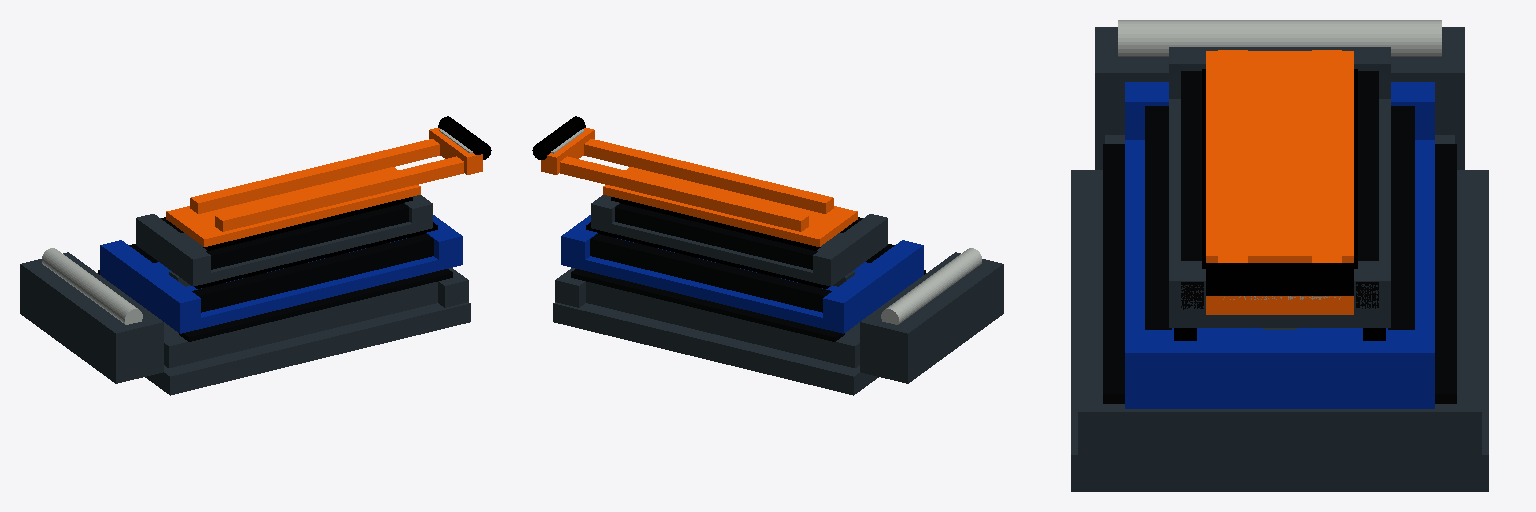
The robot description file, URDF, robot "warehouse_three_stage_shuttle":
<robot name="warehouse_three_stage_shuttle">
  <material name="painted_steel">
    <color rgba="0.19 0.23 0.26 1" />
    </material>
  <material name="dark_linear_rail">
    <color rgba="0.04 0.045 0.05 1" />
    </material>
  <material name="safety_blue">
    <color rgba="0.05 0.22 0.62 1" />
    </material>
  <material name="safety_orange">
    <color rgba="1 0.42 0.04 1" />
    </material>
  <material name="black_rubber">
    <color rgba="0.006 0.006 0.005 1" />
    </material>
  <material name="zinc_hardware">
    <color rgba="0.7 0.72 0.7 1" />
    </material>
  <link name="base">
    <visual name="deck">
      <origin xyz="0.15 0 0.03" rpy="0 0 0" />
      <geometry>
        <box size="1 0.62 0.06" />
        </geometry>
      <material name="painted_steel">
        <color rgba="0.19 0.23 0.26 1" />
        </material>
      </visual>
    <visual name="base_rail_0">
      <origin xyz="0.15 -0.235 0.095" rpy="0 0 0" />
      <geometry>
        <box size="0.95 0.05 0.07" />
        </geometry>
      <material name="painted_steel">
        <color rgba="0.19 0.23 0.26 1" />
        </material>
      </visual>
    <visual name="base_pad_0">
      <origin xyz="0.18 -0.235 0.1375" rpy="0 0 0" />
      <geometry>
        <box size="0.88 0.056 0.015" />
        </geometry>
      <material name="dark_linear_rail">
        <color rgba="0.04 0.045 0.05 1" />
        </material>
      </visual>
    <visual name="base_rail_1">
      <origin xyz="0.15 0.235 0.095" rpy="0 0 0" />
      <geometry>
        <box size="0.95 0.05 0.07" />
        </geometry>
      <material name="painted_steel">
        <color rgba="0.19 0.23 0.26 1" />
        </material>
      </visual>
    <visual name="base_pad_1">
      <origin xyz="0.18 0.235 0.1375" rpy="0 0 0" />
      <geometry>
        <box size="0.88 0.056 0.015" />
        </geometry>
      <material name="dark_linear_rail">
        <color rgba="0.04 0.045 0.05 1" />
        </material>
      </visual>
    <visual name="rear_drive">
      <origin xyz="-0.43 0 0.14" rpy="0 0 0" />
      <geometry>
        <box size="0.16 0.55 0.16" />
        </geometry>
      <material name="painted_steel">
        <color rgba="0.19 0.23 0.26 1" />
        </material>
      </visual>
    <visual name="front_crossmember">
      <origin xyz="0.61 0 0.095" rpy="0 0 0" />
      <geometry>
        <box size="0.08 0.6 0.07" />
        </geometry>
      <material name="painted_steel">
        <color rgba="0.19 0.23 0.26 1" />
        </material>
      </visual>
    <visual name="drive_shaft">
      <origin xyz="-0.43 0 0.235" rpy="1.5708 0 0" />
      <geometry>
        <cylinder radius="0.03" length="0.48" />
        </geometry>
      <material name="zinc_hardware">
        <color rgba="0.7 0.72 0.7 1" />
        </material>
      </visual>
    <visual name="shaft_mount">
      <origin xyz="-0.43 0 0.205" rpy="0 0 0" />
      <geometry>
        <box size="0.1 0.5 0.03" />
        </geometry>
      <material name="painted_steel">
        <color rgba="0.19 0.23 0.26 1" />
        </material>
      </visual>
    <collision name="deck">
      <origin xyz="0.15 0 0.03" rpy="0 0 0" />
      <geometry>
        <box size="1 0.62 0.06" />
        </geometry>
      </collision>
    <collision name="base_rail_0">
      <origin xyz="0.15 -0.235 0.095" rpy="0 0 0" />
      <geometry>
        <box size="0.95 0.05 0.07" />
        </geometry>
      </collision>
    <collision name="base_pad_0">
      <origin xyz="0.18 -0.235 0.1375" rpy="0 0 0" />
      <geometry>
        <box size="0.88 0.056 0.015" />
        </geometry>
      </collision>
    <collision name="base_rail_1">
      <origin xyz="0.15 0.235 0.095" rpy="0 0 0" />
      <geometry>
        <box size="0.95 0.05 0.07" />
        </geometry>
      </collision>
    <collision name="base_pad_1">
      <origin xyz="0.18 0.235 0.1375" rpy="0 0 0" />
      <geometry>
        <box size="0.88 0.056 0.015" />
        </geometry>
      </collision>
    <collision name="rear_drive">
      <origin xyz="-0.43 0 0.14" rpy="0 0 0" />
      <geometry>
        <box size="0.16 0.55 0.16" />
        </geometry>
      </collision>
    <collision name="front_crossmember">
      <origin xyz="0.61 0 0.095" rpy="0 0 0" />
      <geometry>
        <box size="0.08 0.6 0.07" />
        </geometry>
      </collision>
    <collision name="drive_shaft">
      <origin xyz="-0.43 0 0.235" rpy="1.5708 0 0" />
      <geometry>
        <cylinder radius="0.03" length="0.48" />
        </geometry>
      </collision>
    <collision name="shaft_mount">
      <origin xyz="-0.43 0 0.205" rpy="0 0 0" />
      <geometry>
        <box size="0.1 0.5 0.03" />
        </geometry>
      </collision>
    </link>
  <link name="stage_1">
    <visual name="stage_bed">
      <origin xyz="0.47 0 0.0175" rpy="0 0 0" />
      <geometry>
        <box size="0.94 0.46 0.035" />
        </geometry>
      <material name="safety_blue">
        <color rgba="0.05 0.22 0.62 1" />
        </material>
      </visual>
    <visual name="rail_0">
      <origin xyz="0.49 -0.18 0.062" rpy="0 0 0" />
      <geometry>
        <box size="0.88 0.04 0.056" />
        </geometry>
      <material name="dark_linear_rail">
        <color rgba="0.04 0.045 0.05 1" />
        </material>
      </visual>
    <visual name="upper_pad_0">
      <origin xyz="0.5 -0.1404 0.097" rpy="0 0 0" />
      <geometry>
        <box size="0.8 0.034 0.016" />
        </geometry>
      <material name="black_rubber">
        <color rgba="0.006 0.006 0.005 1" />
        </material>
      </visual>
    <visual name="rail_1">
      <origin xyz="0.49 0.18 0.062" rpy="0 0 0" />
      <geometry>
        <box size="0.88 0.04 0.056" />
        </geometry>
      <material name="dark_linear_rail">
        <color rgba="0.04 0.045 0.05 1" />
        </material>
      </visual>
    <visual name="upper_pad_1">
      <origin xyz="0.5 0.1404 0.097" rpy="0 0 0" />
      <geometry>
        <box size="0.8 0.034 0.016" />
        </geometry>
      <material name="black_rubber">
        <color rgba="0.006 0.006 0.005 1" />
        </material>
      </visual>
    <visual name="front_crosshead">
      <origin xyz="0.9 0 0.046" rpy="0 0 0" />
      <geometry>
        <box size="0.08 0.46 0.092" />
        </geometry>
      <material name="safety_blue">
        <color rgba="0.05 0.22 0.62 1" />
        </material>
      </visual>
    <visual name="rear_bolster">
      <origin xyz="0.035 0 0.066" rpy="0 0 0" />
      <geometry>
        <box size="0.07 0.46 0.062" />
        </geometry>
      <material name="safety_blue">
        <color rgba="0.05 0.22 0.62 1" />
        </material>
      </visual>
    <visual name="cable_trough">
      <origin xyz="0.5 0 0.052" rpy="0 0 0" />
      <geometry>
        <box size="0.78 0.05 0.036" />
        </geometry>
      <material name="painted_steel">
        <color rgba="0.19 0.23 0.26 1" />
        </material>
      </visual>
    <collision name="stage_bed">
      <origin xyz="0.47 0 0.0175" rpy="0 0 0" />
      <geometry>
        <box size="0.94 0.46 0.035" />
        </geometry>
      </collision>
    <collision name="rail_0">
      <origin xyz="0.49 -0.18 0.062" rpy="0 0 0" />
      <geometry>
        <box size="0.88 0.04 0.056" />
        </geometry>
      </collision>
    <collision name="upper_pad_0">
      <origin xyz="0.5 -0.1404 0.097" rpy="0 0 0" />
      <geometry>
        <box size="0.8 0.034 0.016" />
        </geometry>
      </collision>
    <collision name="rail_1">
      <origin xyz="0.49 0.18 0.062" rpy="0 0 0" />
      <geometry>
        <box size="0.88 0.04 0.056" />
        </geometry>
      </collision>
    <collision name="upper_pad_1">
      <origin xyz="0.5 0.1404 0.097" rpy="0 0 0" />
      <geometry>
        <box size="0.8 0.034 0.016" />
        </geometry>
      </collision>
    <collision name="front_crosshead">
      <origin xyz="0.9 0 0.046" rpy="0 0 0" />
      <geometry>
        <box size="0.08 0.46 0.092" />
        </geometry>
      </collision>
    <collision name="rear_bolster">
      <origin xyz="0.035 0 0.066" rpy="0 0 0" />
      <geometry>
        <box size="0.07 0.46 0.062" />
        </geometry>
      </collision>
    <collision name="cable_trough">
      <origin xyz="0.5 0 0.052" rpy="0 0 0" />
      <geometry>
        <box size="0.78 0.05 0.036" />
        </geometry>
      </collision>
    </link>
  <link name="stage_2">
    <visual name="stage_bed">
      <origin xyz="0.4 0 0.015" rpy="0 0 0" />
      <geometry>
        <box size="0.8 0.33 0.03" />
        </geometry>
      <material name="painted_steel">
        <color rgba="0.19 0.23 0.26 1" />
        </material>
      </visual>
    <visual name="rail_0">
      <origin xyz="0.43 -0.13 0.052" rpy="0 0 0" />
      <geometry>
        <box size="0.74 0.035 0.046" />
        </geometry>
      <material name="dark_linear_rail">
        <color rgba="0.04 0.045 0.05 1" />
        </material>
      </visual>
    <visual name="upper_pad_0">
      <origin xyz="0.42 -0.1001 0.0805" rpy="0 0 0" />
      <geometry>
        <box size="0.68 0.03 0.013" />
        </geometry>
      <material name="black_rubber">
        <color rgba="0.006 0.006 0.005 1" />
        </material>
      </visual>
    <visual name="rail_1">
      <origin xyz="0.43 0.13 0.052" rpy="0 0 0" />
      <geometry>
        <box size="0.74 0.035 0.046" />
        </geometry>
      <material name="dark_linear_rail">
        <color rgba="0.04 0.045 0.05 1" />
        </material>
      </visual>
    <visual name="upper_pad_1">
      <origin xyz="0.42 0.1001 0.0805" rpy="0 0 0" />
      <geometry>
        <box size="0.68 0.03 0.013" />
        </geometry>
      <material name="black_rubber">
        <color rgba="0.006 0.006 0.005 1" />
        </material>
      </visual>
    <visual name="front_crosshead">
      <origin xyz="0.765 0 0.0385" rpy="0 0 0" />
      <geometry>
        <box size="0.07 0.33 0.077" />
        </geometry>
      <material name="painted_steel">
        <color rgba="0.19 0.23 0.26 1" />
        </material>
      </visual>
    <visual name="rear_bolster">
      <origin xyz="0.03 0 0.058" rpy="0 0 0" />
      <geometry>
        <box size="0.06 0.33 0.056" />
        </geometry>
      <material name="painted_steel">
        <color rgba="0.19 0.23 0.26 1" />
        </material>
      </visual>
    <collision name="stage_bed">
      <origin xyz="0.4 0 0.015" rpy="0 0 0" />
      <geometry>
        <box size="0.8 0.33 0.03" />
        </geometry>
      </collision>
    <collision name="rail_0">
      <origin xyz="0.43 -0.13 0.052" rpy="0 0 0" />
      <geometry>
        <box size="0.74 0.035 0.046" />
        </geometry>
      </collision>
    <collision name="upper_pad_0">
      <origin xyz="0.42 -0.1001 0.0805" rpy="0 0 0" />
      <geometry>
        <box size="0.68 0.03 0.013" />
        </geometry>
      </collision>
    <collision name="rail_1">
      <origin xyz="0.43 0.13 0.052" rpy="0 0 0" />
      <geometry>
        <box size="0.74 0.035 0.046" />
        </geometry>
      </collision>
    <collision name="upper_pad_1">
      <origin xyz="0.42 0.1001 0.0805" rpy="0 0 0" />
      <geometry>
        <box size="0.68 0.03 0.013" />
        </geometry>
      </collision>
    <collision name="front_crosshead">
      <origin xyz="0.765 0 0.0385" rpy="0 0 0" />
      <geometry>
        <box size="0.07 0.33 0.077" />
        </geometry>
      </collision>
    <collision name="rear_bolster">
      <origin xyz="0.03 0 0.058" rpy="0 0 0" />
      <geometry>
        <box size="0.06 0.33 0.056" />
        </geometry>
      </collision>
    </link>
  <link name="stage_3">
    <visual name="shuttle_blade">
      <origin xyz="0.36 0 0.0125" rpy="0 0 0" />
      <geometry>
        <box size="0.72 0.22 0.025" />
        </geometry>
      <material name="safety_orange">
        <color rgba="1 0.42 0.04 1" />
        </material>
      </visual>
    <visual name="fork_0">
      <origin xyz="0.49 -0.07 0.042" rpy="0 0 0" />
      <geometry>
        <box size="0.84 0.045 0.036" />
        </geometry>
      <material name="safety_orange">
        <color rgba="1 0.42 0.04 1" />
        </material>
      </visual>
    <visual name="fork_1">
      <origin xyz="0.49 0.07 0.042" rpy="0 0 0" />
      <geometry>
        <box size="0.84 0.045 0.036" />
        </geometry>
      <material name="safety_orange">
        <color rgba="1 0.42 0.04 1" />
        </material>
      </visual>
    <visual name="nose_bar">
      <origin xyz="0.9 0 0.053" rpy="0 0 0" />
      <geometry>
        <box size="0.05 0.22 0.056" />
        </geometry>
      <material name="safety_orange">
        <color rgba="1 0.42 0.04 1" />
        </material>
      </visual>
    <visual name="nose_roller">
      <origin xyz="0.93 0 0.085" rpy="1.5708 0 0" />
      <geometry>
        <cylinder radius="0.025" length="0.22" />
        </geometry>
      <material name="black_rubber">
        <color rgba="0.006 0.006 0.005 1" />
        </material>
      </visual>
    <visual name="roller_bracket">
      <origin xyz="0.91 0 0.067" rpy="0 0 0" />
      <geometry>
        <box size="0.03 0.18 0.035" />
        </geometry>
      <material name="zinc_hardware">
        <color rgba="0.7 0.72 0.7 1" />
        </material>
      </visual>
    <collision name="shuttle_blade">
      <origin xyz="0.36 0 0.0125" rpy="0 0 0" />
      <geometry>
        <box size="0.72 0.22 0.025" />
        </geometry>
      </collision>
    <collision name="fork_0">
      <origin xyz="0.49 -0.07 0.042" rpy="0 0 0" />
      <geometry>
        <box size="0.84 0.045 0.036" />
        </geometry>
      </collision>
    <collision name="fork_1">
      <origin xyz="0.49 0.07 0.042" rpy="0 0 0" />
      <geometry>
        <box size="0.84 0.045 0.036" />
        </geometry>
      </collision>
    <collision name="nose_bar">
      <origin xyz="0.9 0 0.053" rpy="0 0 0" />
      <geometry>
        <box size="0.05 0.22 0.056" />
        </geometry>
      </collision>
    <collision name="nose_roller">
      <origin xyz="0.93 0 0.085" rpy="1.5708 0 0" />
      <geometry>
        <cylinder radius="0.025" length="0.22" />
        </geometry>
      </collision>
    <collision name="roller_bracket">
      <origin xyz="0.91 0 0.067" rpy="0 0 0" />
      <geometry>
        <box size="0.03 0.18 0.035" />
        </geometry>
      </collision>
    </link>
  <joint name="base_to_stage_1" type="prismatic">
    <origin xyz="-0.27 0 0.145" rpy="0 0 0" />
    <parent link="base" />
    <child link="stage_1" />
    <axis xyz="1 0 0" />
    <limit effort="550" velocity="0.7" lower="0" upper="0.42" />
    </joint>
  <joint name="stage_1_to_stage_2" type="prismatic">
    <origin xyz="0.08 0 0.105" rpy="0 0 0" />
    <parent link="stage_1" />
    <child link="stage_2" />
    <axis xyz="1 0 0" />
    <limit effort="420" velocity="0.65" lower="0" upper="0.36" />
    </joint>
  <joint name="stage_2_to_stage_3" type="prismatic">
    <origin xyz="0.07 0 0.087" rpy="0 0 0" />
    <parent link="stage_2" />
    <child link="stage_3" />
    <axis xyz="1 0 0" />
    <limit effort="260" velocity="0.6" lower="0" upper="0.34" />
    </joint>
  </robot>

--- What the picture shows (computed from the rendered views, not written in the file) ---
The picture shows the robot from 3 angles, left to right: view 1: azimuth 30°, elevation 25°; view 2: azimuth 150°, elevation 25°; view 3: azimuth 270°, elevation 25°; orthographic projection.
Model warehouse_three_stage_shuttle with 4 links and 3 joints (3 prismatic), rooted at base, posed all joints at 0.
Links seen in each view (by area): view 1: base, stage_1, stage_3, stage_2; view 2: base, stage_1, stage_3, stage_2; view 3: base, stage_1, stage_3, stage_2.
Boxes of the visible links, <box> form: base: <box>20,248,470,395</box>; stage_1: <box>100,215,462,333</box>; stage_3: <box>166,116,491,246</box>; stage_2: <box>136,195,432,286</box>; base: <box>553,248,1003,395</box>; stage_1: <box>561,215,923,333</box>; stage_3: <box>532,116,857,246</box>; stage_2: <box>591,195,887,286</box>; base: <box>1071,20,1488,491</box>; stage_1: <box>1125,82,1434,408</box>; stage_3: <box>1206,50,1353,314</box>; stage_2: <box>1169,47,1390,327</box>.
Bounding box of the posed robot: 1.34 × 0.62 × 0.447 m (x, y, z).
Geometry: primitives only (box / cylinder / sphere), no mesh files.
